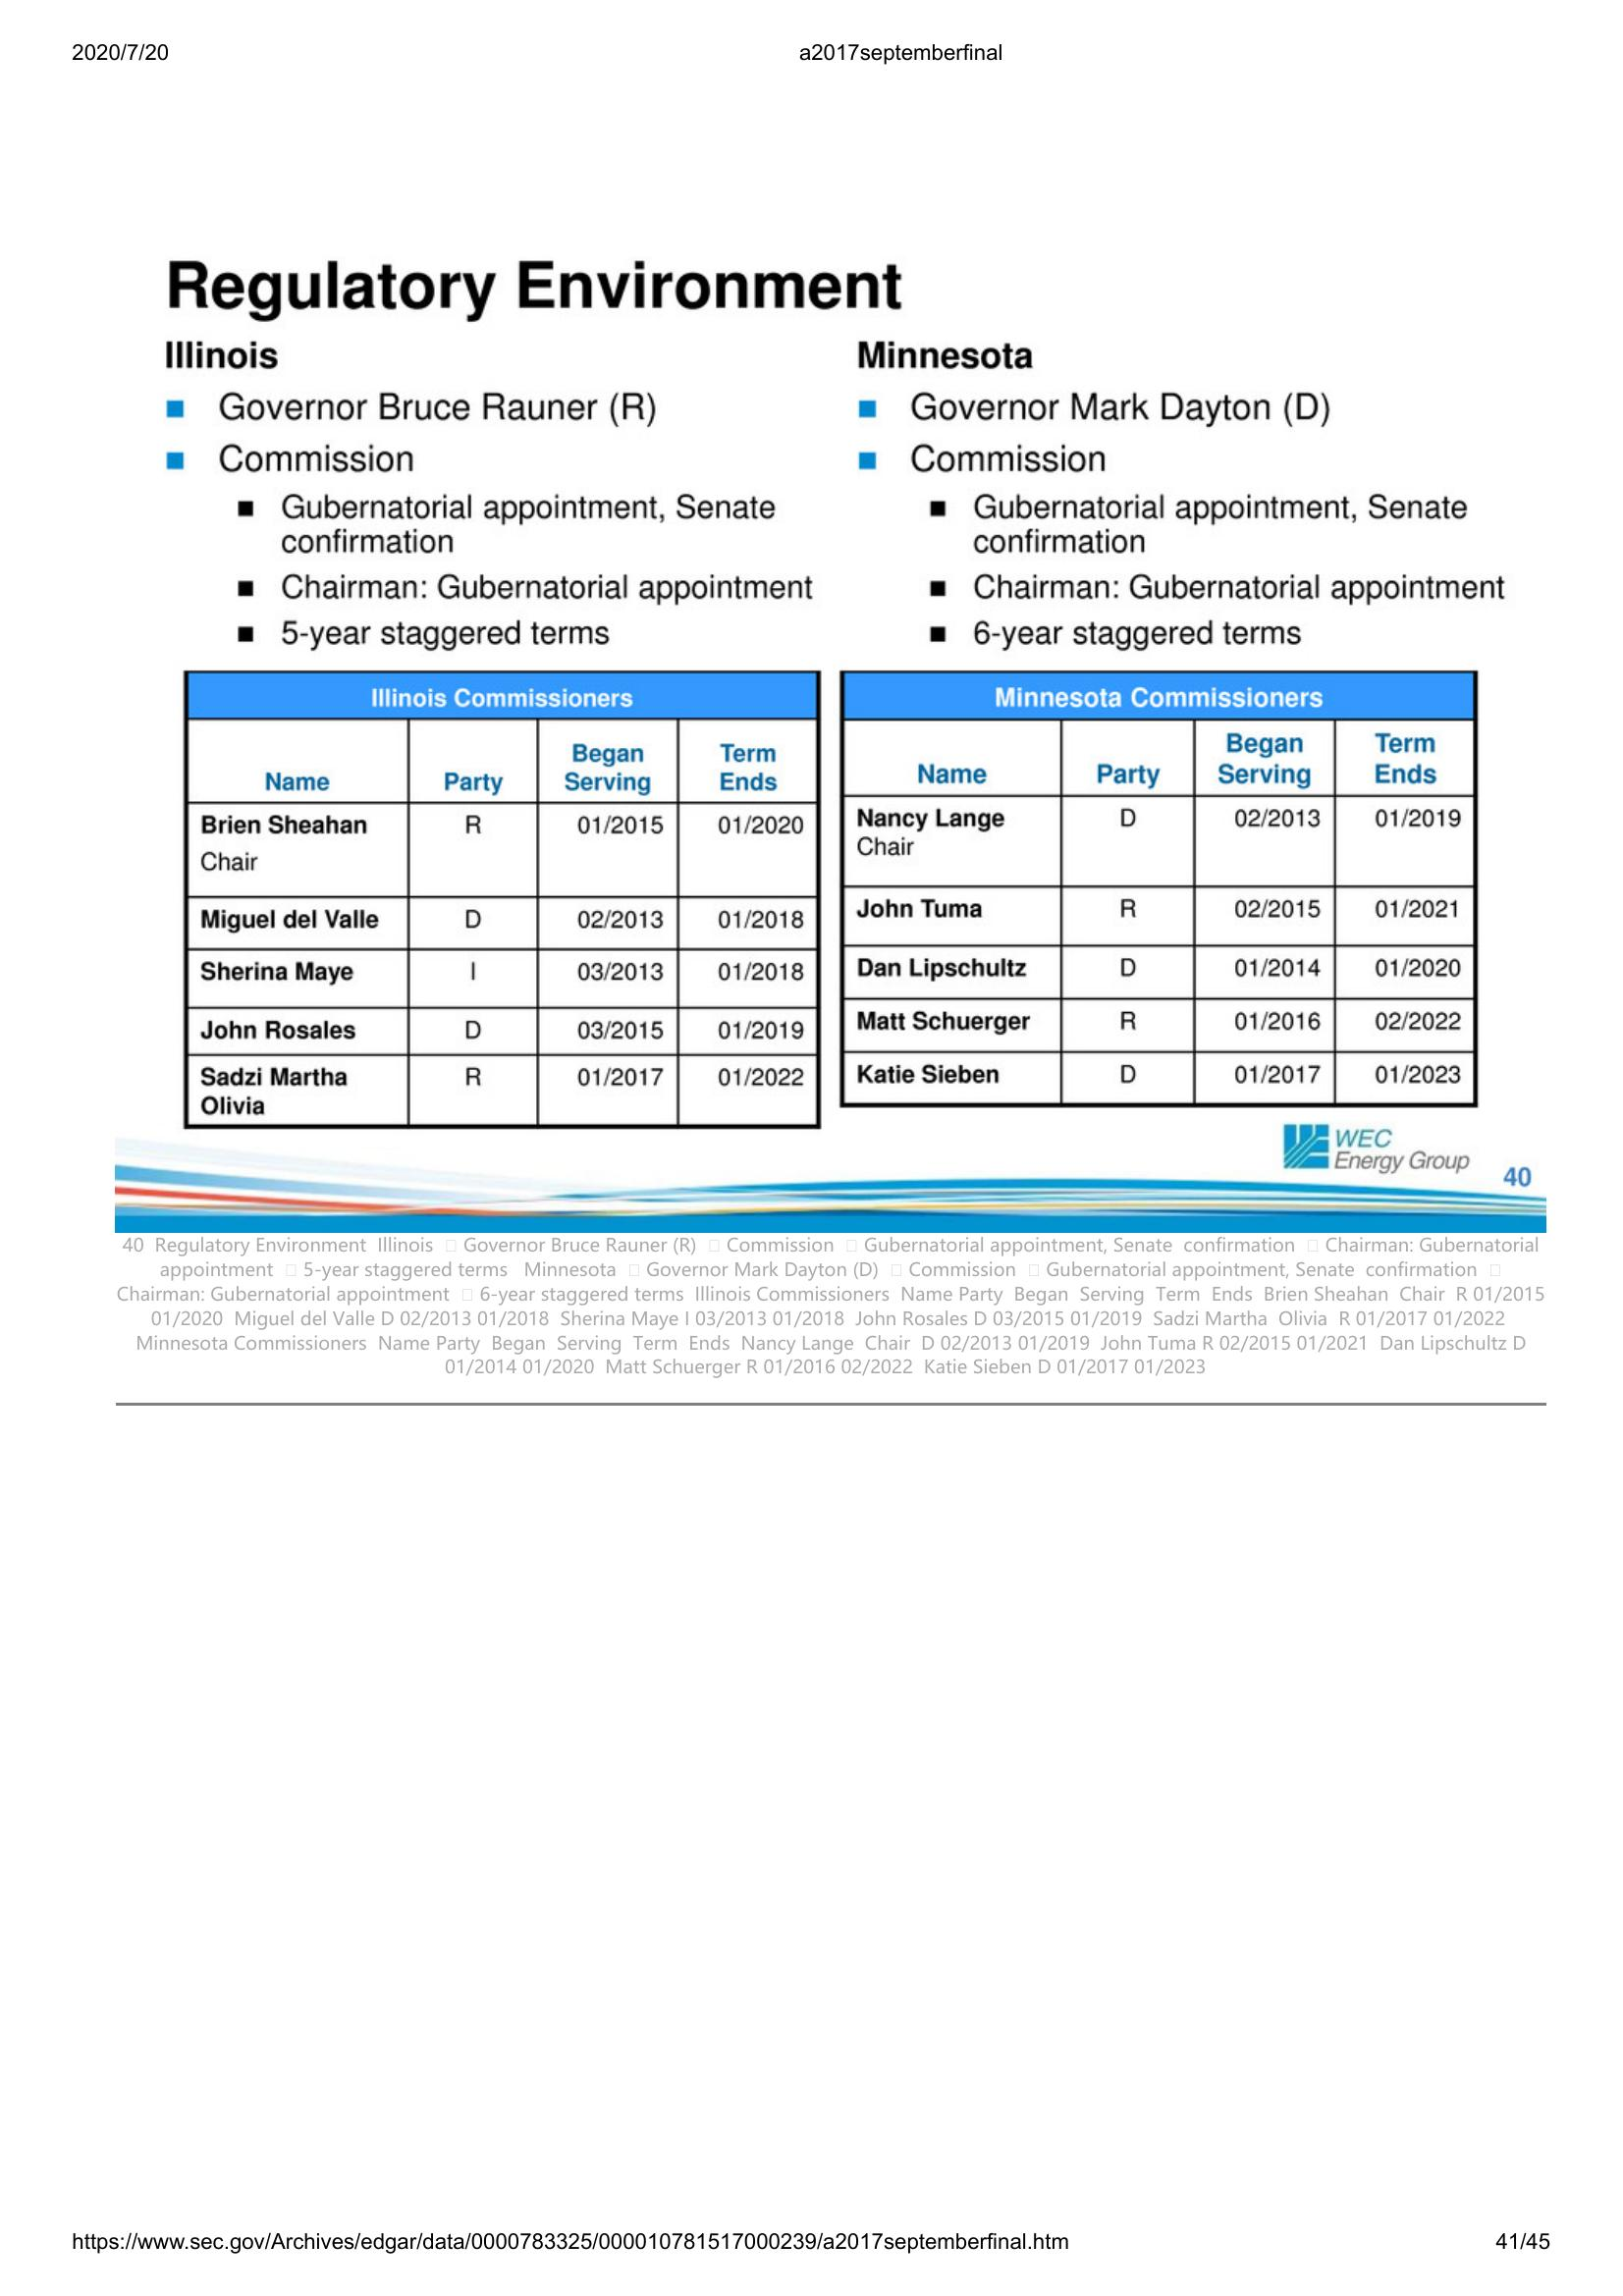table: (179, 662, 829, 1139), (834, 658, 1488, 1116)
